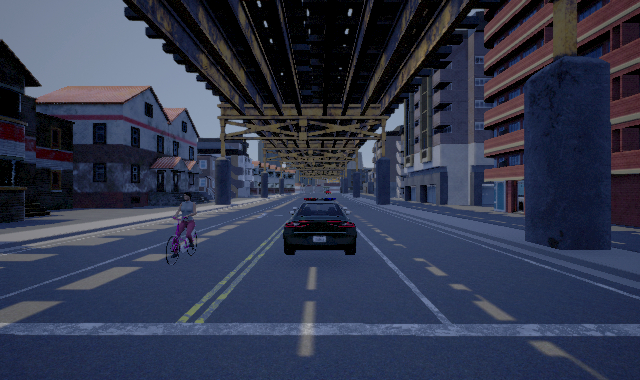bike: (166, 193, 199, 266)
vehicle: (283, 198, 357, 255)
